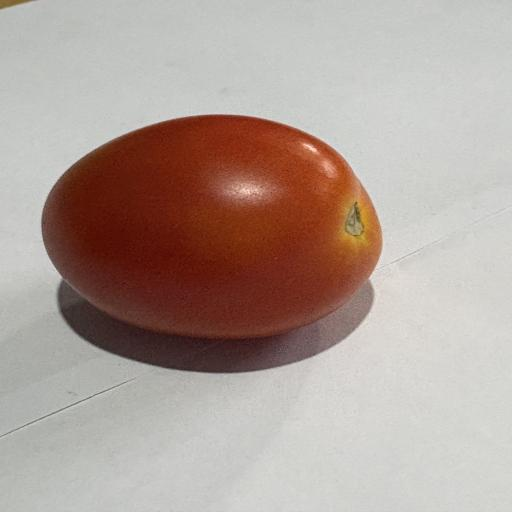ripe: (42, 115, 382, 338)
